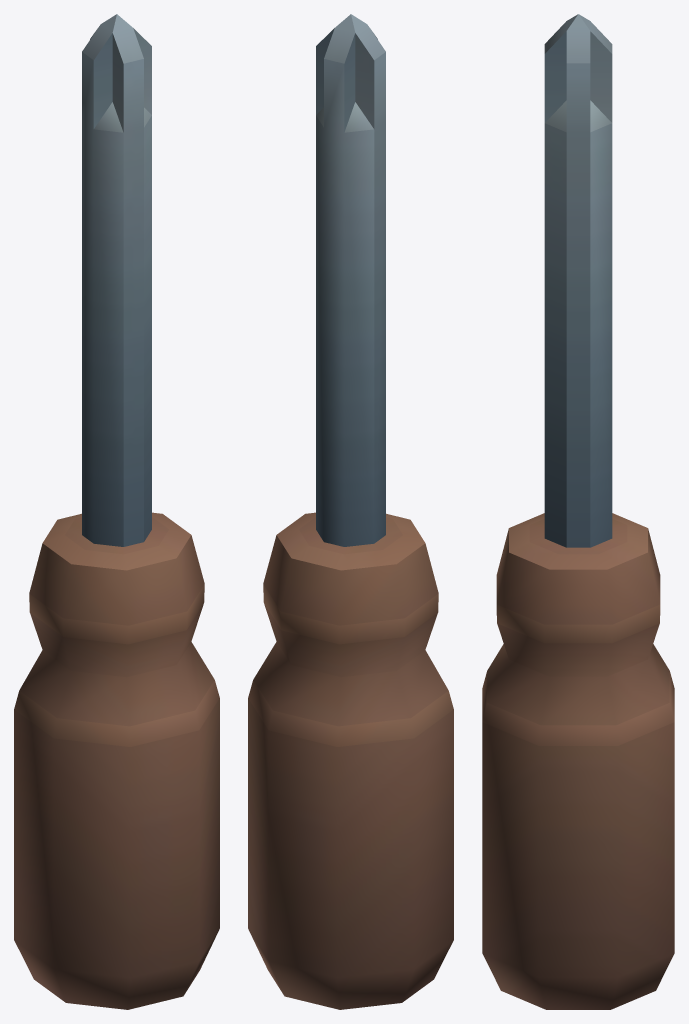
The model's file is screwdriver_b_long.glb.
3 views of the same model, side by side, from view 1: azimuth 30°, elevation 25°; view 2: azimuth 150°, elevation 25°; view 3: azimuth 270°, elevation 25° (orthographic).
Parts seen in each view (by area): view 1: screwdriver_B_long; view 2: screwdriver_B_long; view 3: screwdriver_B_long.
Boxes of the visible parts, x1,y1,x2,y2 form: screwdriver_B_long: [14, 14, 219, 1009]; screwdriver_B_long: [248, 14, 453, 1009]; screwdriver_B_long: [482, 14, 674, 1009].
Size of the model in its own units: 0.1513 by 0.8536 by 0.1513.
Materials: 1 (1 with a texture image).
